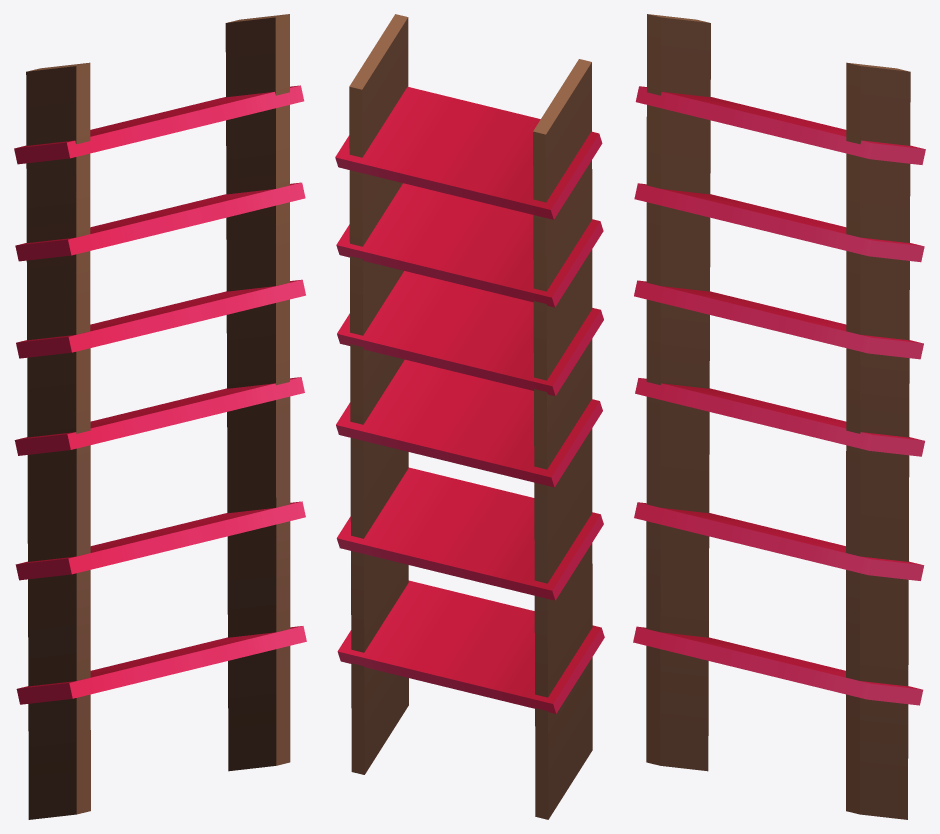
The model's file is lader.fbx.
3 renders of one model, left to right at view 1: azimuth 30°, elevation 25°; view 2: azimuth 150°, elevation 25°; view 3: azimuth 330°, elevation 25°, orthographic. The views are drawn at different scales.
Visible parts, largest first — view 1: Lader; view 2: Lader; view 3: Lader.
Part boxes in pixels (bbox=[...]): Lader: bbox=[14, 14, 306, 819]; Lader: bbox=[335, 14, 604, 819]; Lader: bbox=[633, 14, 925, 819].
Size of the model in its own units: 109 by 351 by 47.35.
